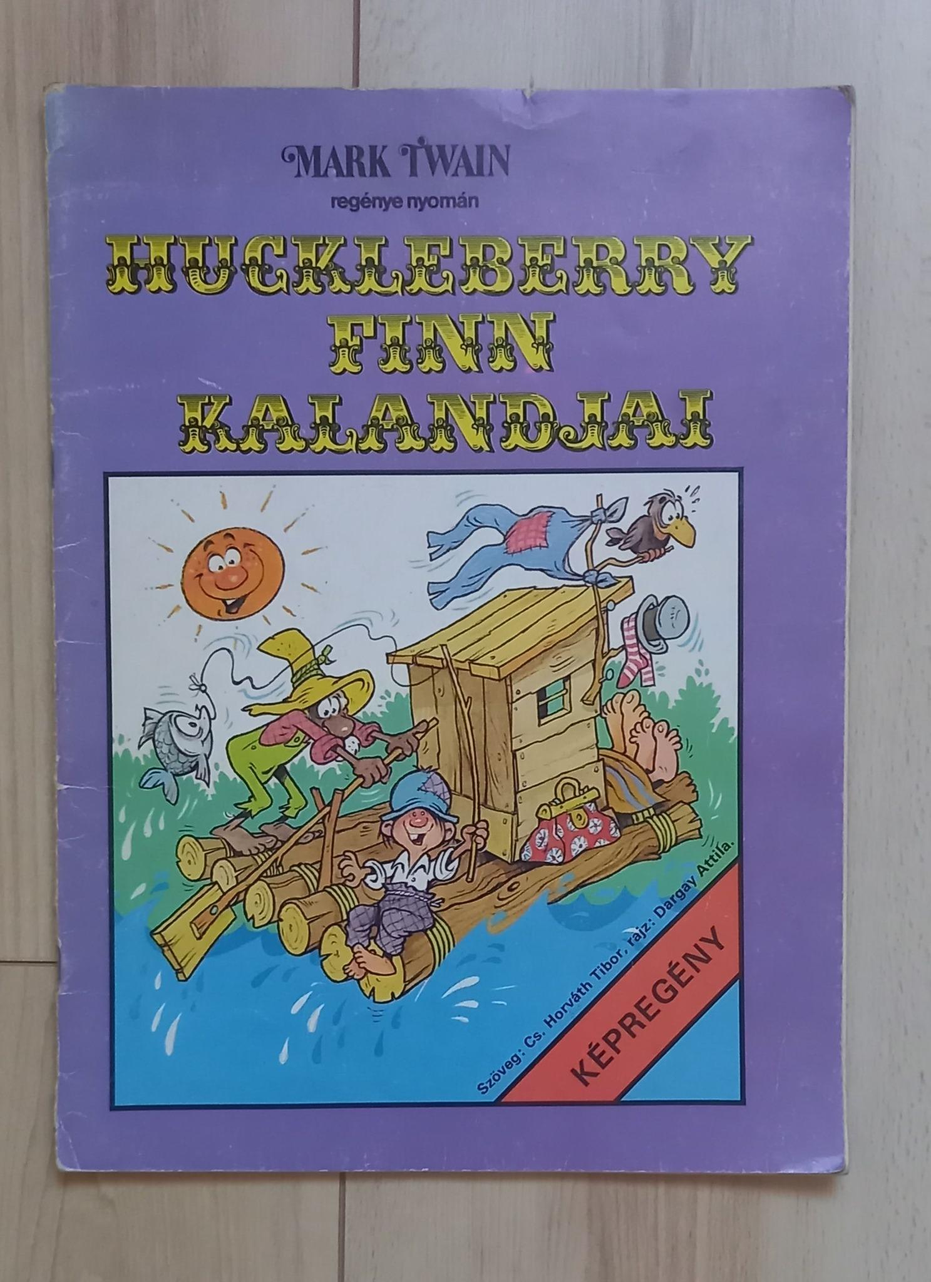comic: (43, 87, 850, 1171)
